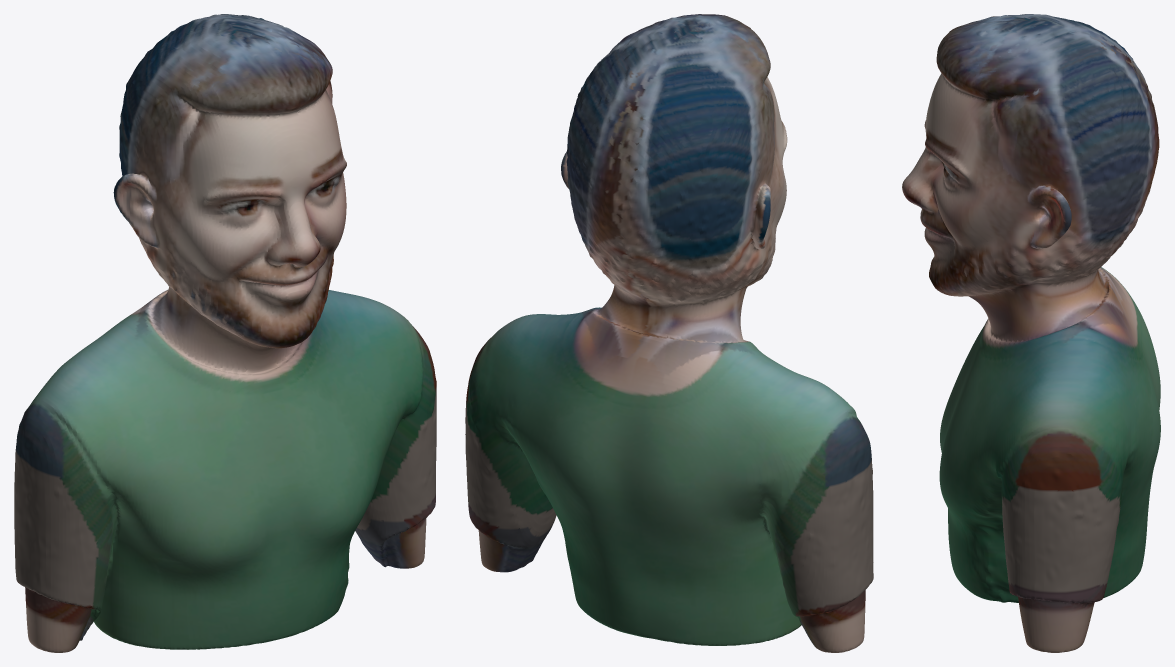
The model's file is amr-baked.glb.
3 renders of one model, left to right at view 1: azimuth 30°, elevation 25°; view 2: azimuth 150°, elevation 25°; view 3: azimuth 270°, elevation 25°, orthographic. The views are drawn at different scales.
Parts seen in each view (by area): view 1: world; view 2: world; view 3: world.
Part boxes in pixels (x1=…): world: x1=14, y1=14, x2=436, y2=652; world: x1=465, y1=14, x2=873, y2=652; world: x1=902, y1=14, x2=1160, y2=652.
Size of the model in its own units: 1.42 by 1.96 by 0.8441.
